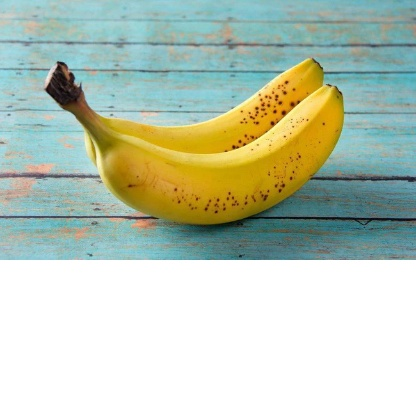chuoi: (40, 44, 345, 221)
